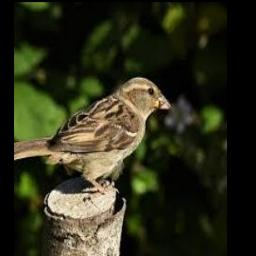Sparrow: (14, 76, 171, 192)
